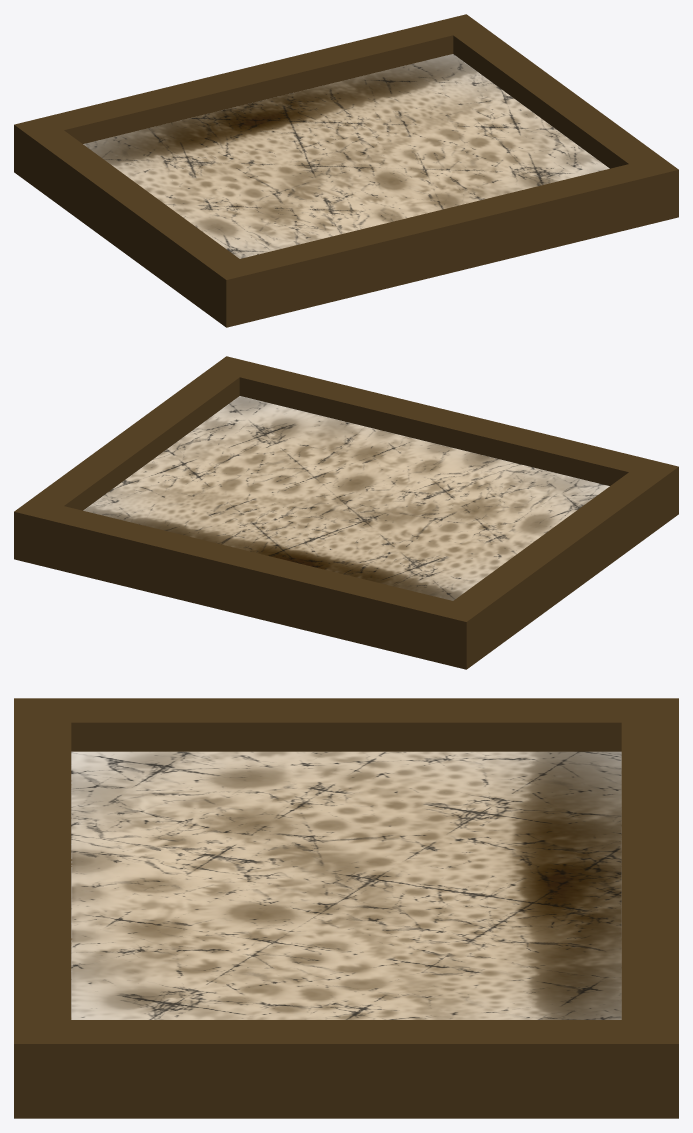
The model's file is Photo Happiness.fbx.
3 views of the same model, one above another, from view 1: azimuth 30°, elevation 25°; view 2: azimuth 150°, elevation 25°; view 3: azimuth 270°, elevation 25° (orthographic). The views are drawn at different scales.
Visible parts, largest first — view 1: pCube1; view 2: pCube1; view 3: pCube1.
Boxes of the visible parts, x1,y1,x2,y2 form: pCube1: [14, 14, 678, 327]; pCube1: [14, 356, 678, 669]; pCube1: [14, 698, 678, 1118].
Size of the model in its own units: 4.29 by 0.4318 by 3.49.
Materials: 2 (1 with a texture image).
